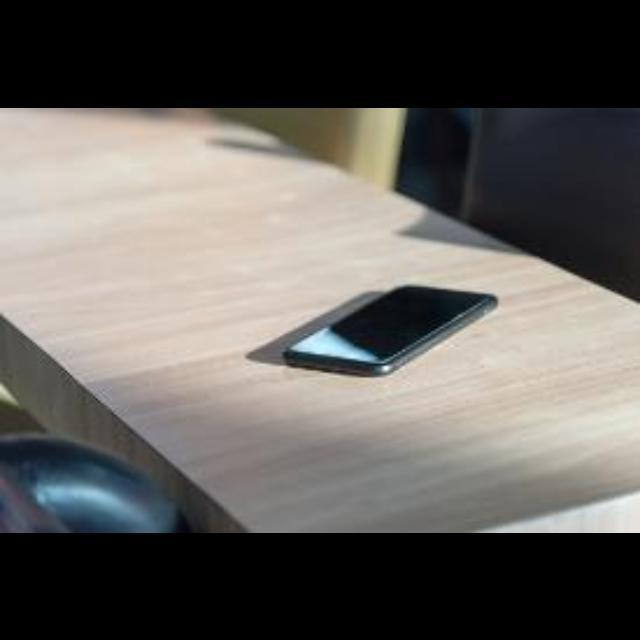PhoneUse: (283, 286, 499, 379)
